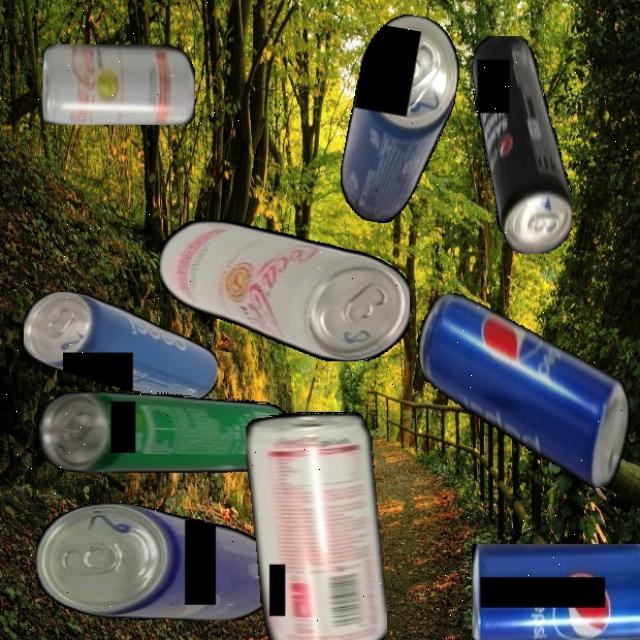debris: (410, 266, 640, 514), (159, 220, 410, 361), (245, 412, 387, 640), (333, 8, 468, 231), (36, 502, 278, 620), (471, 35, 572, 254), (24, 291, 218, 403), (39, 389, 296, 473), (470, 543, 640, 640), (41, 43, 195, 125)
